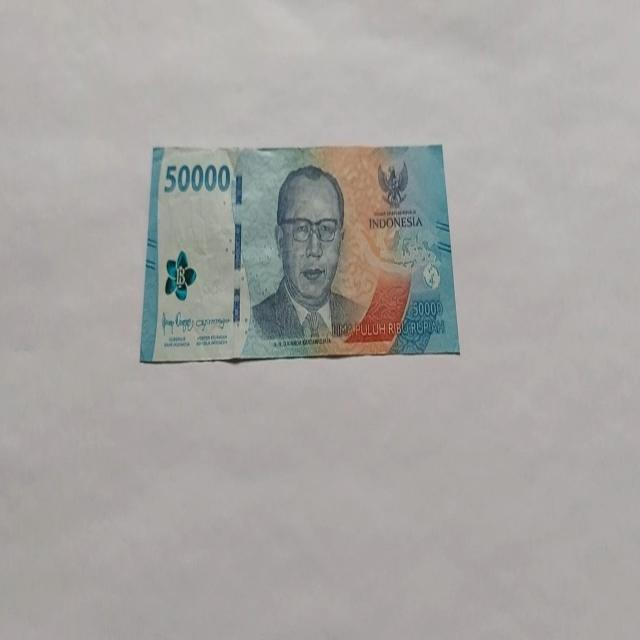lima puluh ribu rupiah: (139, 142, 461, 364), (247, 162, 367, 346)
